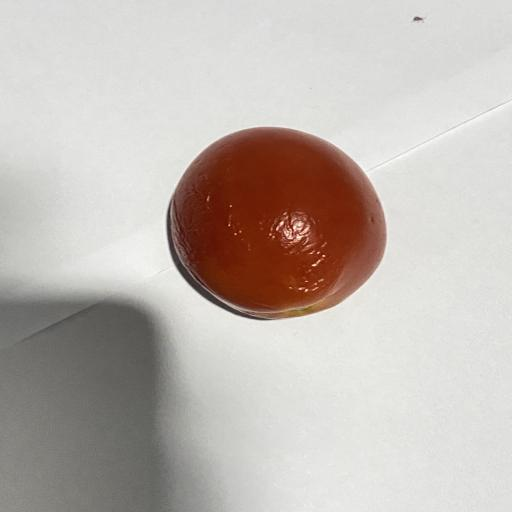overipe: (170, 127, 386, 318)
spoiled: (171, 127, 386, 318)
